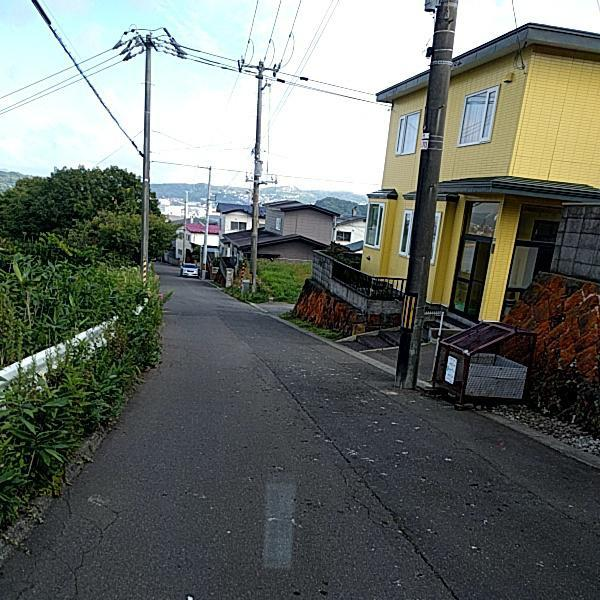D20: (9, 475, 124, 599), (333, 454, 398, 530)
